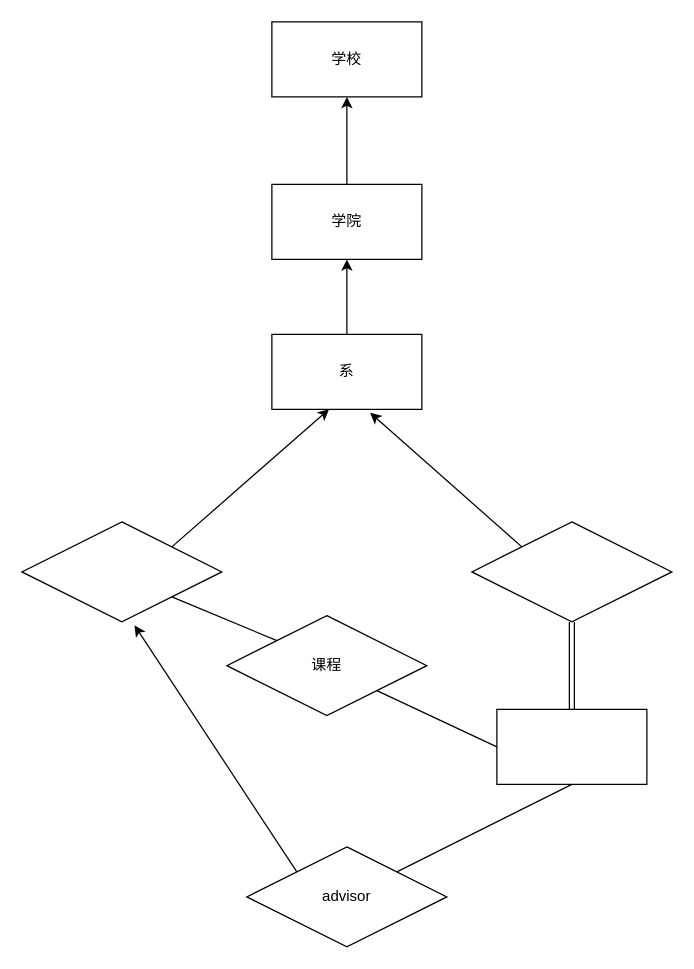
This 694x969 diagram has some shape labels left out. Each missing label, with the centre of its shape:
"专业" belongs at point (571, 571).
"学生" belongs at point (571, 746).
"教师" belongs at point (121, 571).
